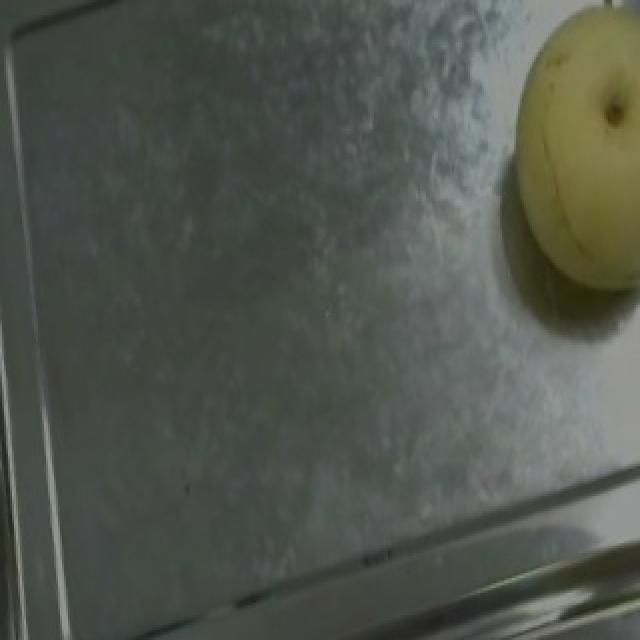Fruit: (468, 0, 640, 322)
